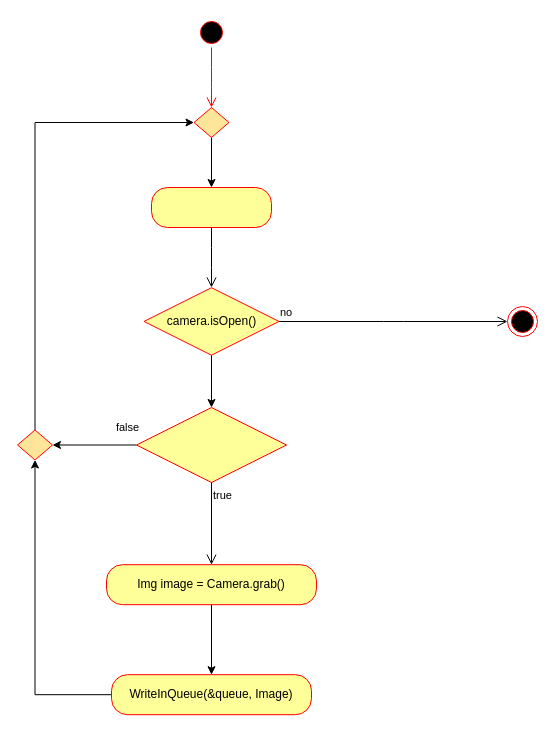
The diagram is 555 pixels wide and 733 high, and some of its shapes have lost their labels. Each missing label, with the centre of its shape:
ArenaSearching = 0: the point at 211,444
wait(100000): the point at 211,207
